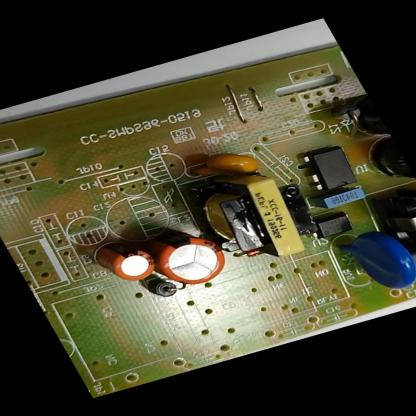Cap1: (141, 220, 236, 292)
Cap2: (89, 235, 162, 288)
Cap3: (362, 141, 416, 199)
Cap4: (345, 94, 396, 152)
MOSFET: (298, 144, 364, 194)
Mov: (334, 224, 416, 300)
Transformer: (187, 160, 325, 271), (376, 188, 416, 246)
